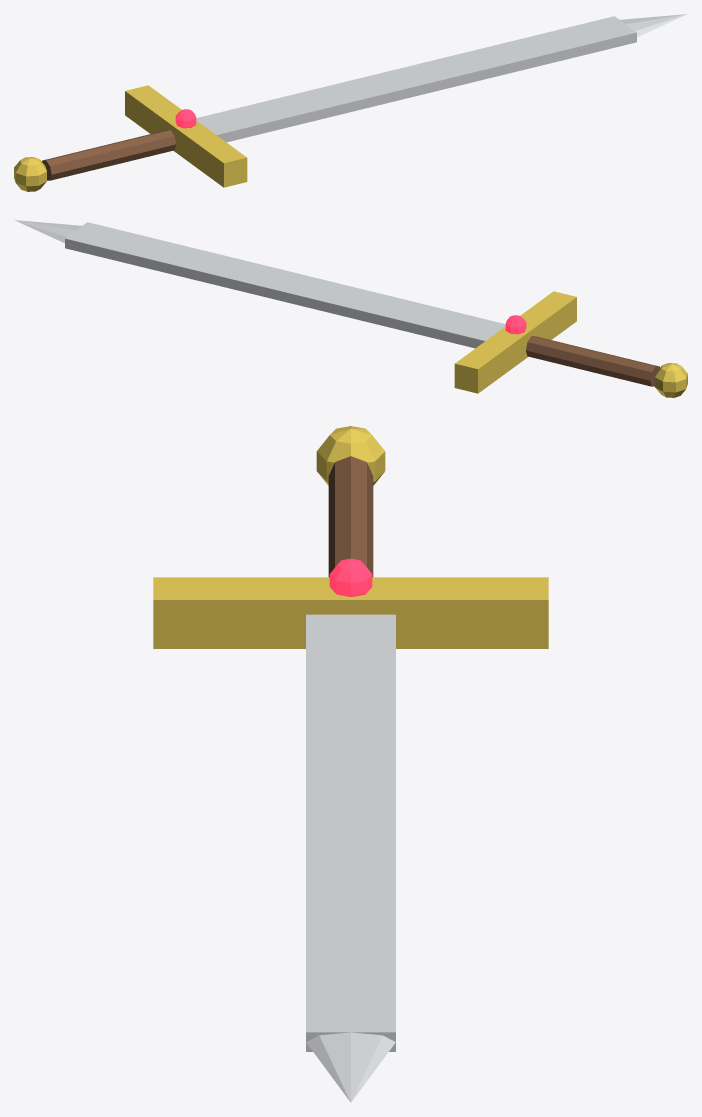
Rendered from artifact_sword.glb.
3 renders of one model, top to bottom at view 1: azimuth 30°, elevation 25°; view 2: azimuth 150°, elevation 25°; view 3: azimuth 270°, elevation 25°, orthographic. The views are drawn at different scales.
Visible parts, largest first — view 1: artifact_sword; view 2: artifact_sword; view 3: artifact_sword.
Boxes of the visible parts, x1=… form: artifact_sword: x1=14, y1=14, x2=687, y2=191; artifact_sword: x1=14, y1=220, x2=687, y2=397; artifact_sword: x1=153, y1=426, x2=548, y2=1102.
Size of the model in its own units: 0.864 by 0.0525 by 0.22.
